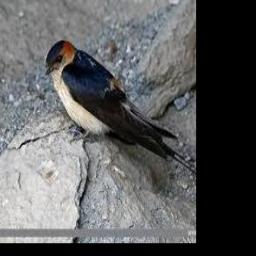Swallow: (45, 41, 196, 174)
